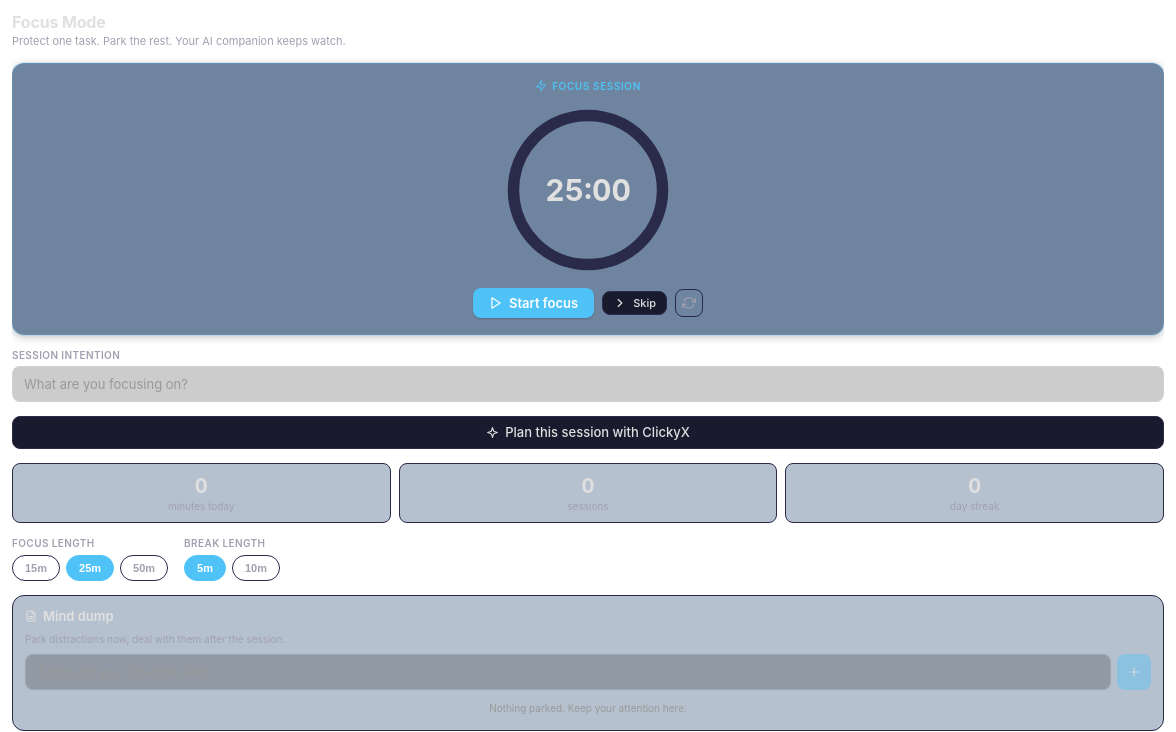
Test: FocusTab › starts and pauses a session
Click the button "Start focus": (534, 303) [473,288,594,318]
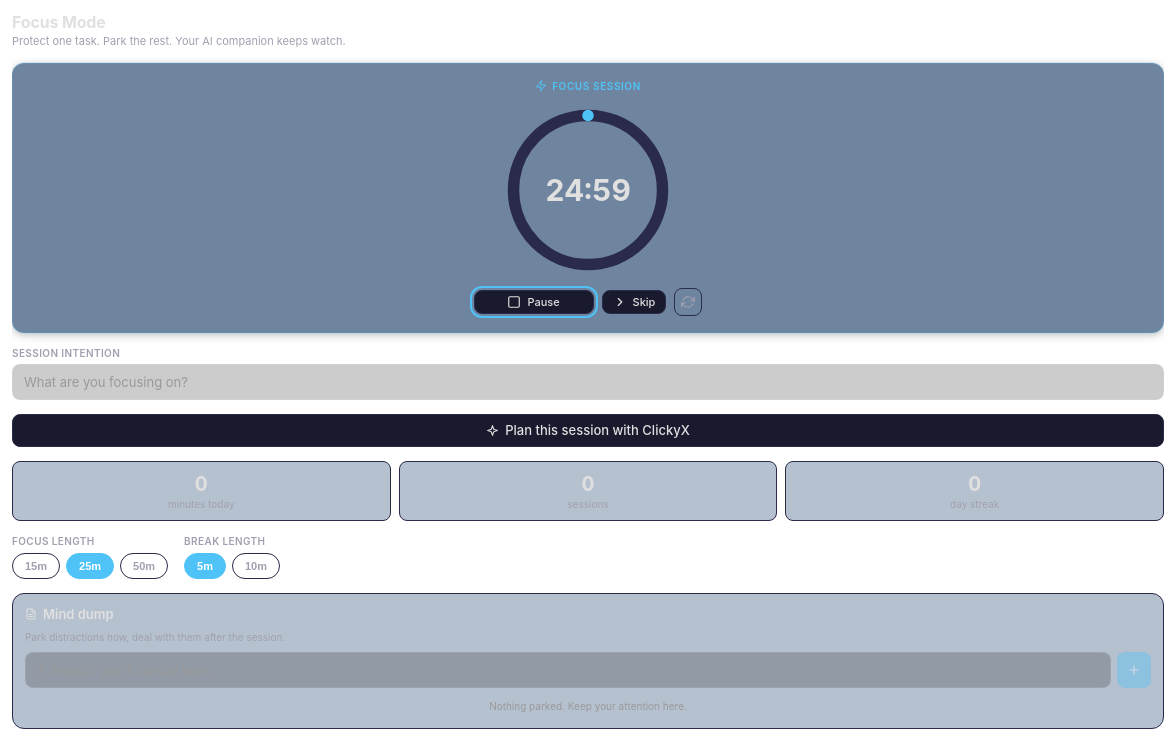
Check: the button "Pause" is shown
Click the button "Pause": (534, 302) [474,290,594,314]
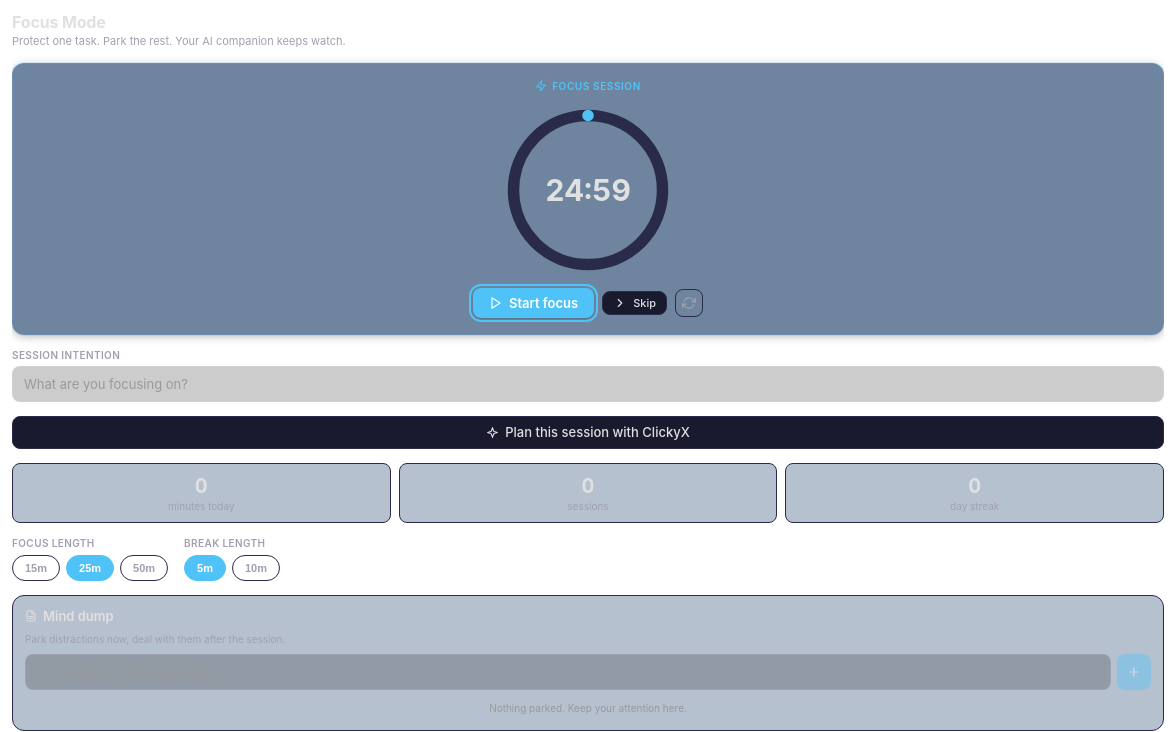
Check: the button "Start focus" is shown, box [473,288,594,318]
